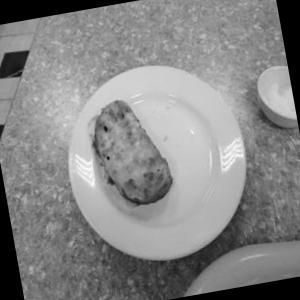cheese_sandwich: (63, 76, 180, 220)
